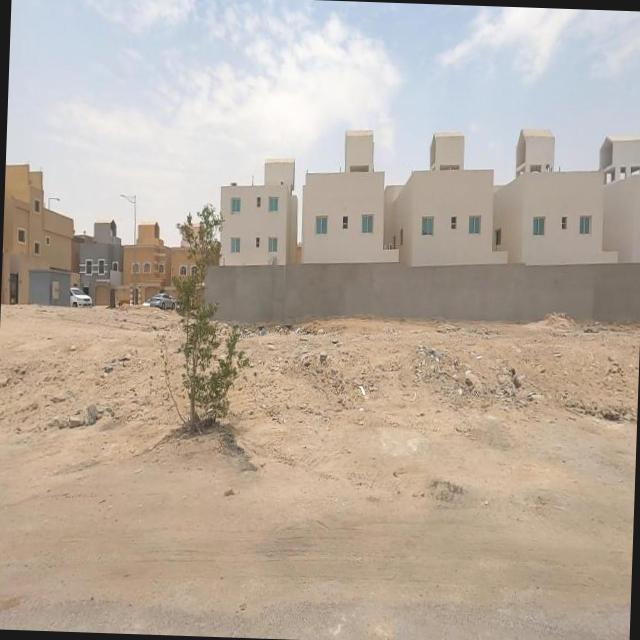debris: (336, 352, 392, 434)
